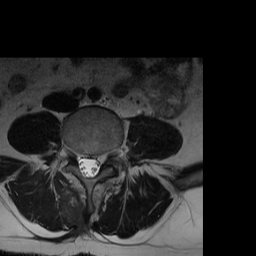CCS_normal: (85, 146, 92, 184)
LFS_normal: (100, 143, 108, 167)
LLS_normal: (92, 146, 100, 179)
RFS_normal: (67, 140, 76, 165)
RLS_normal: (76, 146, 85, 178)
